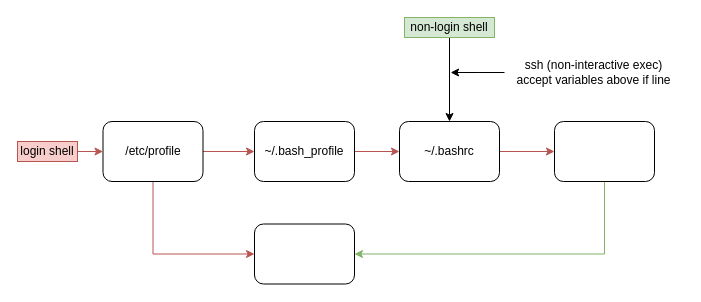
Image size: 701x302. Some labels were removed from this diagram. Each missing label, with the box of its shape:
/etc/bashrc: (554, 120, 654, 182)
/etc/profile.d/*.sh: (254, 223, 354, 284)
